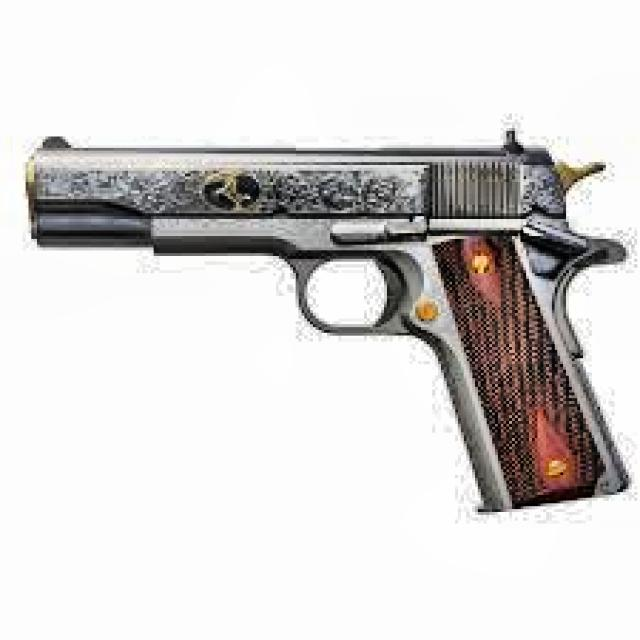Colt m1911: (20, 125, 631, 515)
